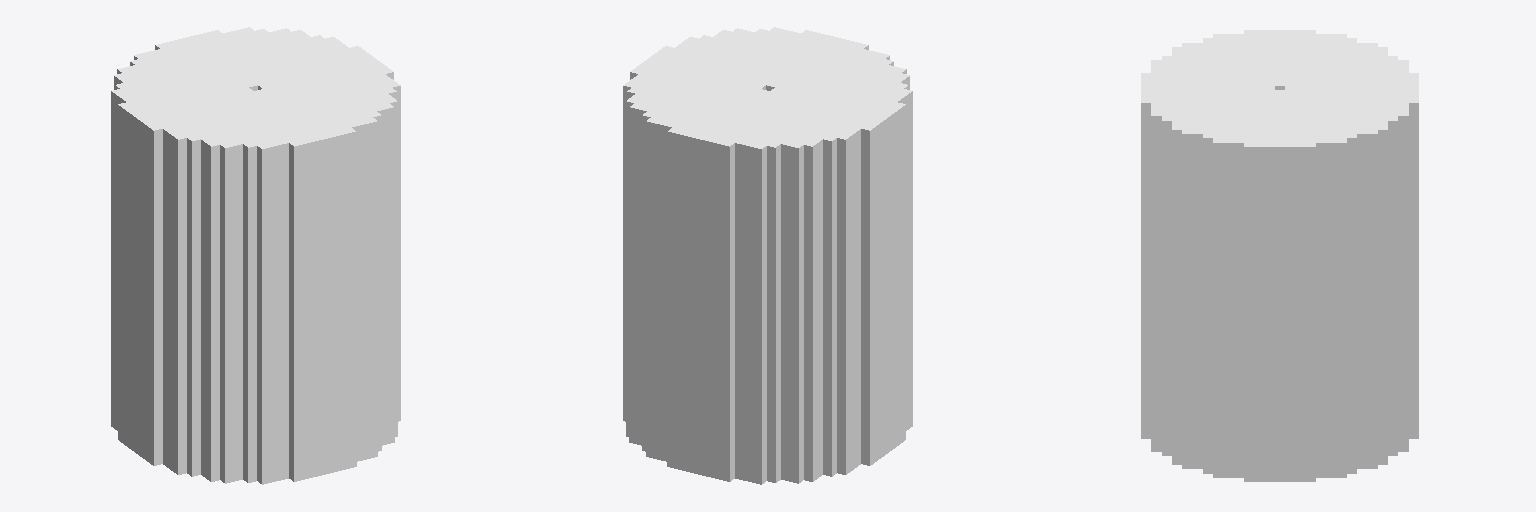
Rendered from securityTyre.obj.
3 renders of one model, left to right at view 1: azimuth 30°, elevation 25°; view 2: azimuth 150°, elevation 25°; view 3: azimuth 270°, elevation 25°, orthographic.
Bounding box in the file's own units: 27 × 36 × 27.